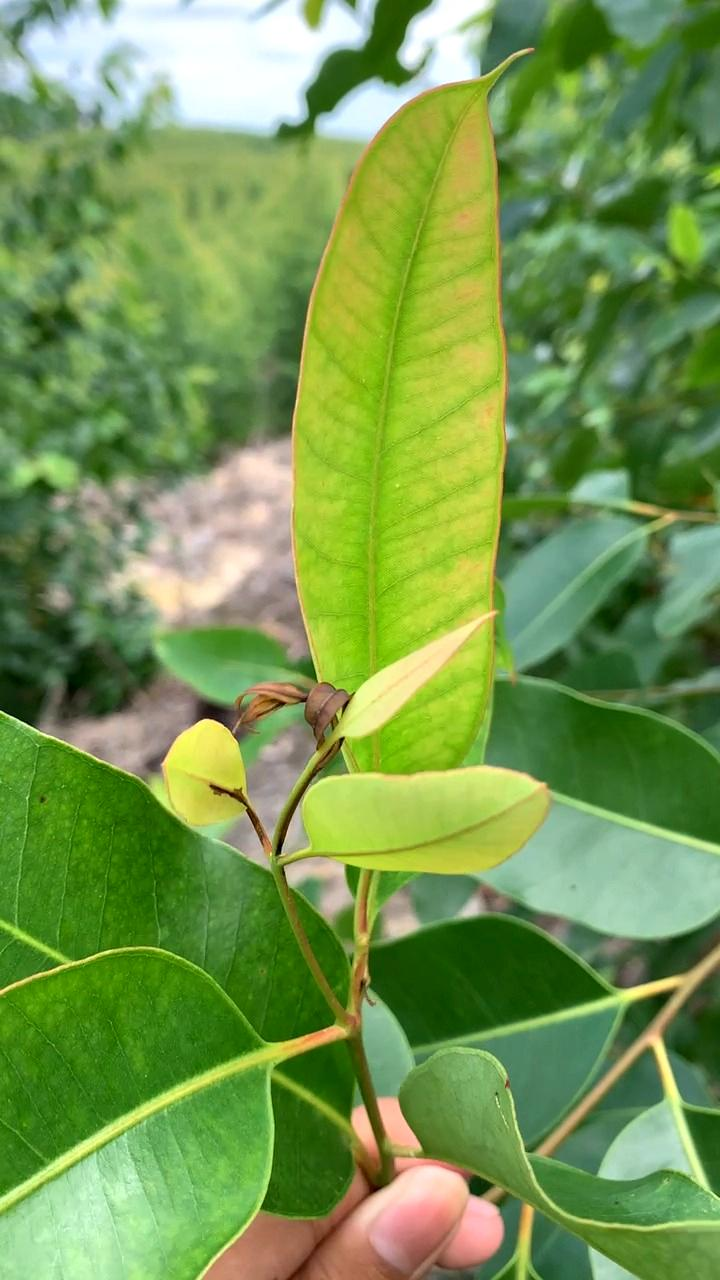Helopeltis-Withered Sprout: (218, 663, 353, 751)
